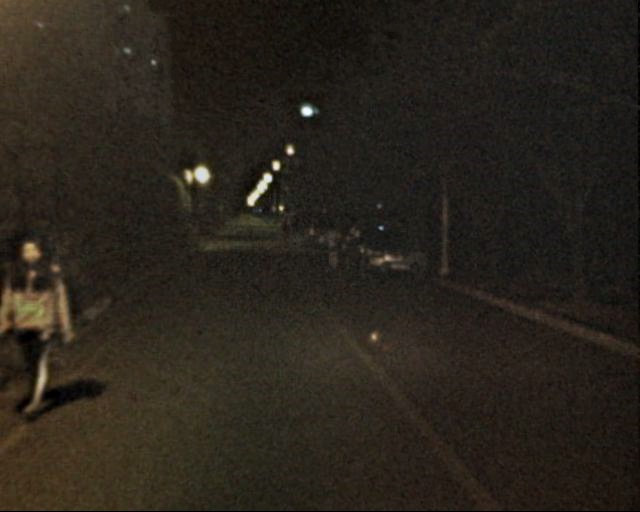person: (3, 236, 89, 390), (323, 224, 342, 271), (290, 218, 304, 252), (279, 223, 288, 245)
